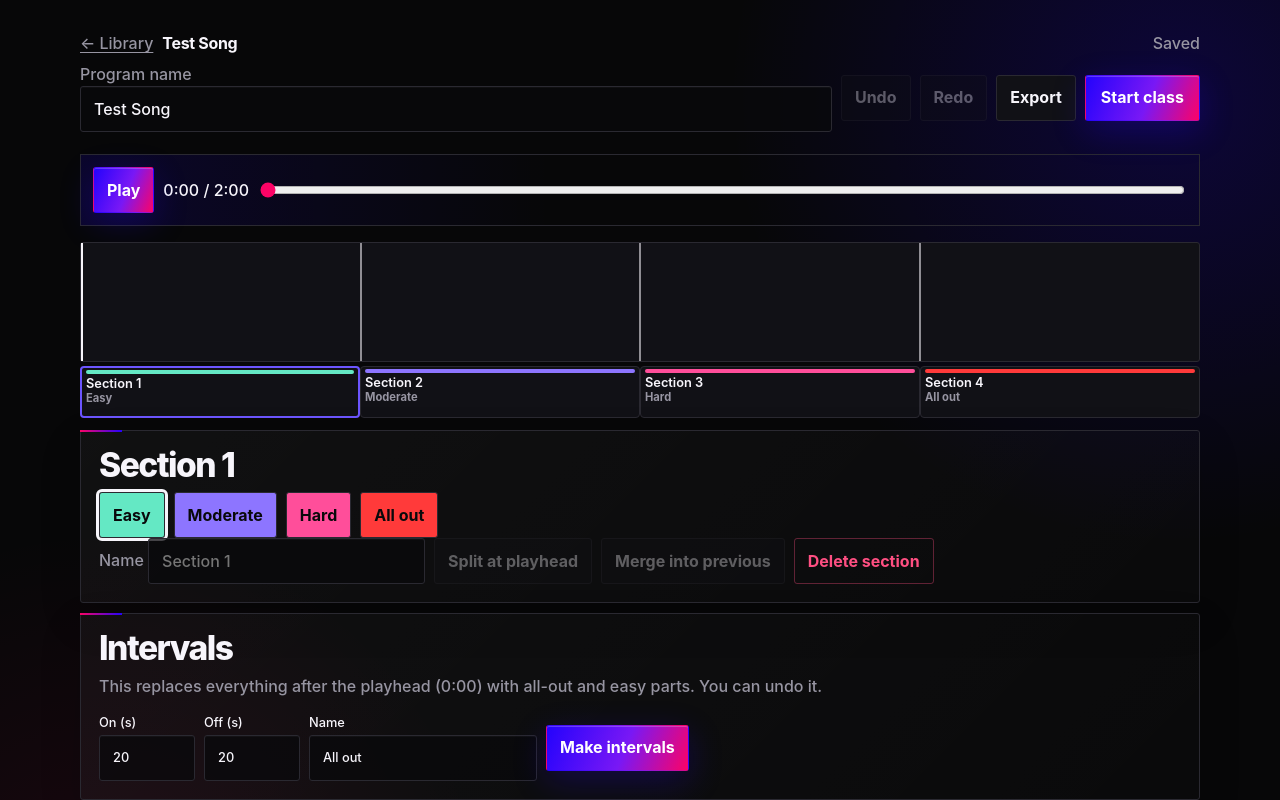
Test: Editor › rename sets the label, and the list offers labels already used
The width and height of the screenshot is (1280, 800).
Type "Hill" into the 1st field labelled "Name" at (287, 561), box [148,538,425,584]
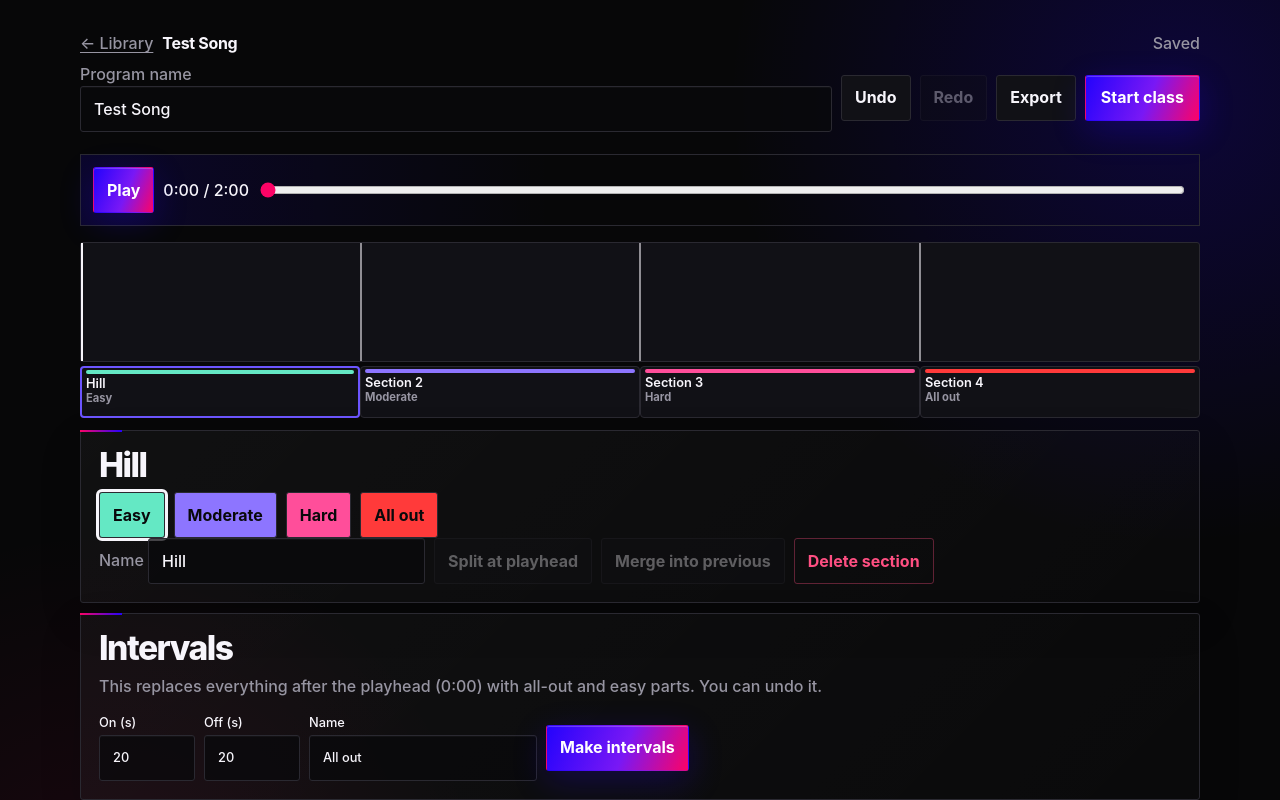
Check: the text "Section 2" is shown, box [365,375,423,391]
Check: the text with class "name" reads "Hill", box [86,376,106,391]
